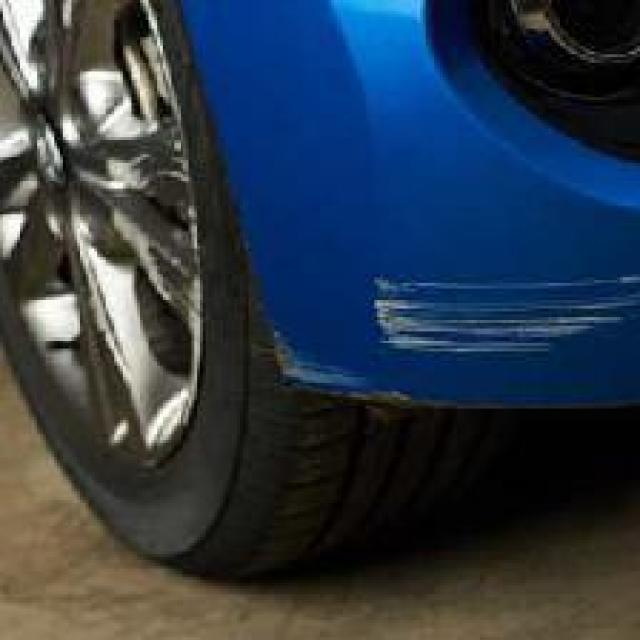damaged: (368, 274, 638, 363)
